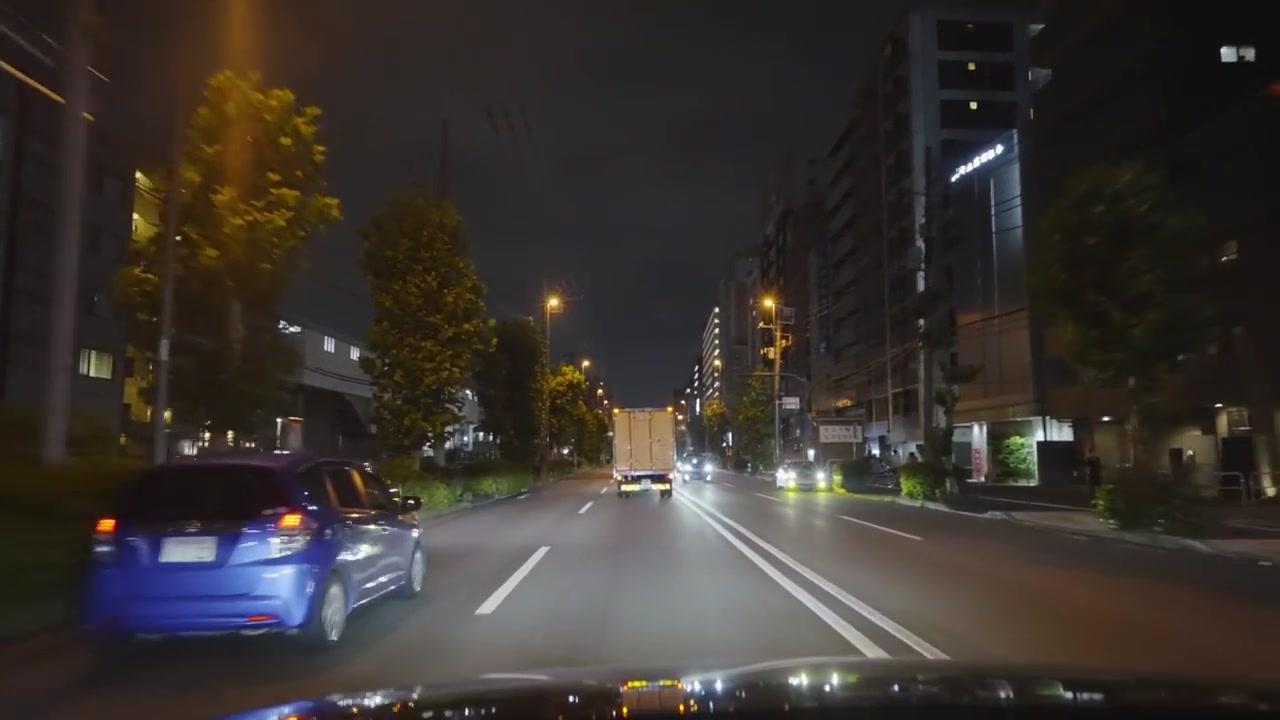car: (77, 450, 428, 648), (835, 457, 901, 494), (776, 459, 830, 491), (678, 456, 713, 482)
truck: (611, 407, 677, 500)
